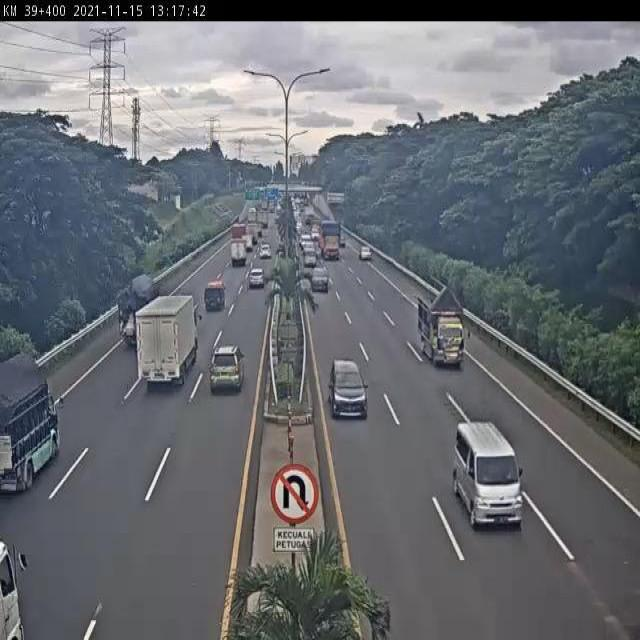car: (451, 417, 522, 528), (327, 359, 368, 421), (209, 342, 245, 394), (309, 265, 331, 296), (248, 265, 268, 292)
truck-m-: (0, 354, 61, 489), (133, 289, 200, 392), (416, 286, 466, 371), (116, 273, 166, 348)
truck-s-: (204, 279, 227, 312)
